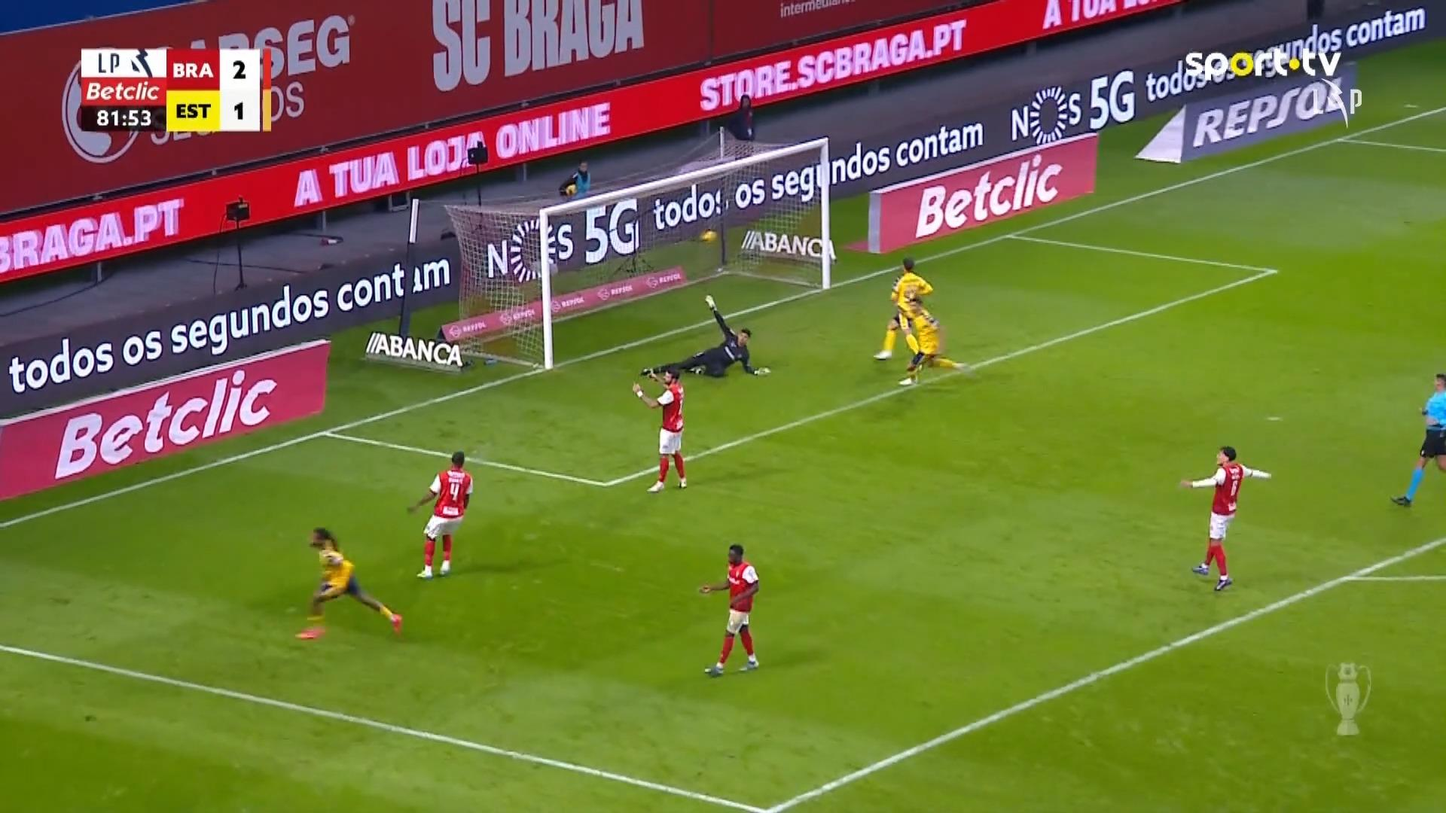ball: (699, 228, 716, 242)
goalkeeper: (640, 293, 770, 379)
player: (1178, 444, 1271, 591), (294, 526, 403, 640), (405, 450, 473, 578), (697, 543, 760, 676), (630, 364, 688, 492), (894, 297, 968, 385), (872, 255, 932, 361)
referee: (1389, 372, 1444, 507)
